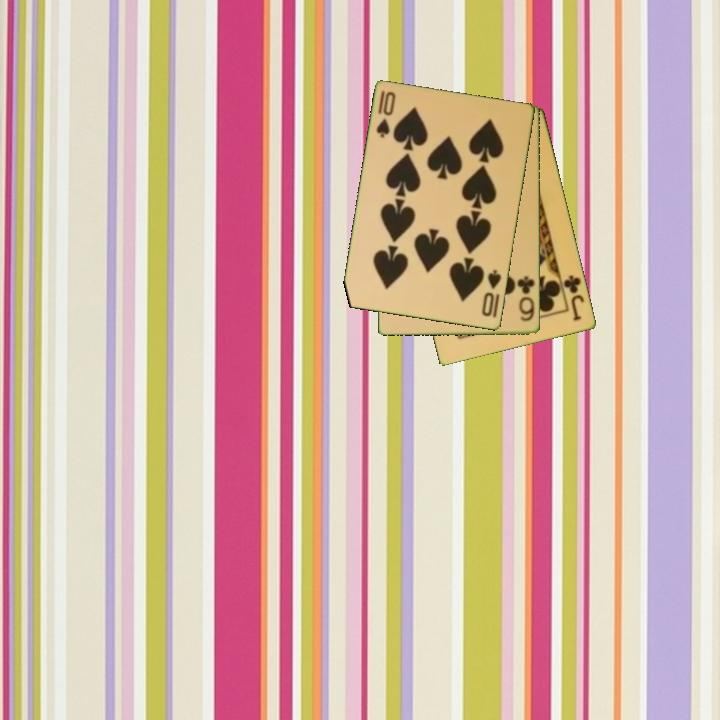10s: (478, 266, 504, 320), (373, 87, 399, 141)
6c: (514, 273, 538, 324)
Jc: (560, 271, 587, 324)
